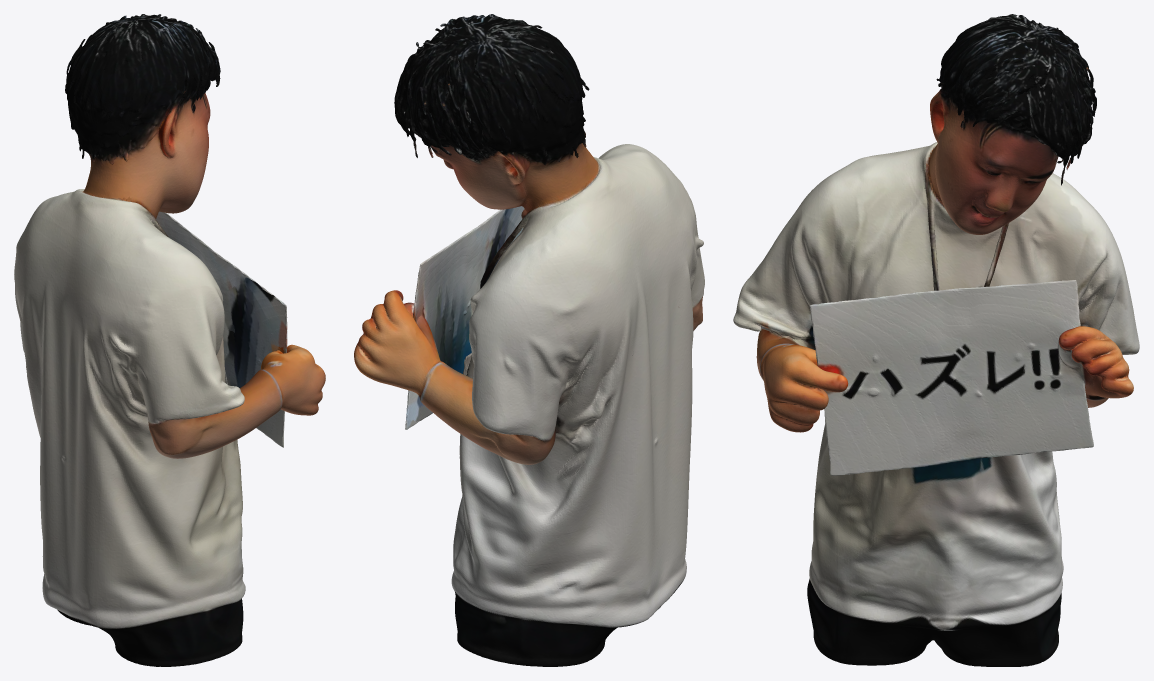
3 renders of one model, left to right at view 1: azimuth 30°, elevation 25°; view 2: azimuth 150°, elevation 25°; view 3: azimuth 270°, elevation 25°, orthographic. The views are drawn at different scales.
Parts seen in each view (by area): view 1: tripo_node_734a6282-1f0b-4dc8-8353-ceff4a88d1dc; view 2: tripo_node_734a6282-1f0b-4dc8-8353-ceff4a88d1dc; view 3: tripo_node_734a6282-1f0b-4dc8-8353-ceff4a88d1dc.
Part boxes in pixels (<box>): tripo_node_734a6282-1f0b-4dc8-8353-ceff4a88d1dc: <box>14,14,325,666</box>; tripo_node_734a6282-1f0b-4dc8-8353-ceff4a88d1dc: <box>354,14,704,666</box>; tripo_node_734a6282-1f0b-4dc8-8353-ceff4a88d1dc: <box>733,14,1139,666</box>.
Bounding box in the file's own units: 0.3798 × 1 × 0.5878.
1 material, 1 textured.
